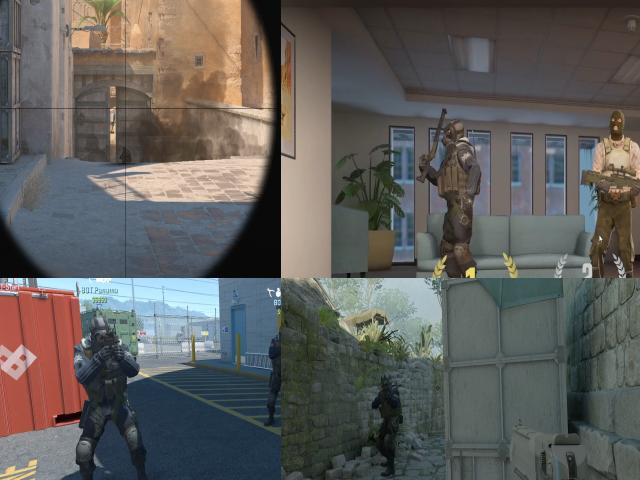CT: (80, 314, 131, 480), (435, 115, 481, 214), (272, 325, 281, 426), (121, 147, 133, 165)
CT-Head: (365, 374, 404, 480), (441, 115, 466, 158), (91, 317, 110, 347), (378, 372, 394, 394), (277, 327, 281, 340), (123, 146, 126, 151)
T: (593, 103, 640, 216)
T-Head: (605, 107, 632, 143)
